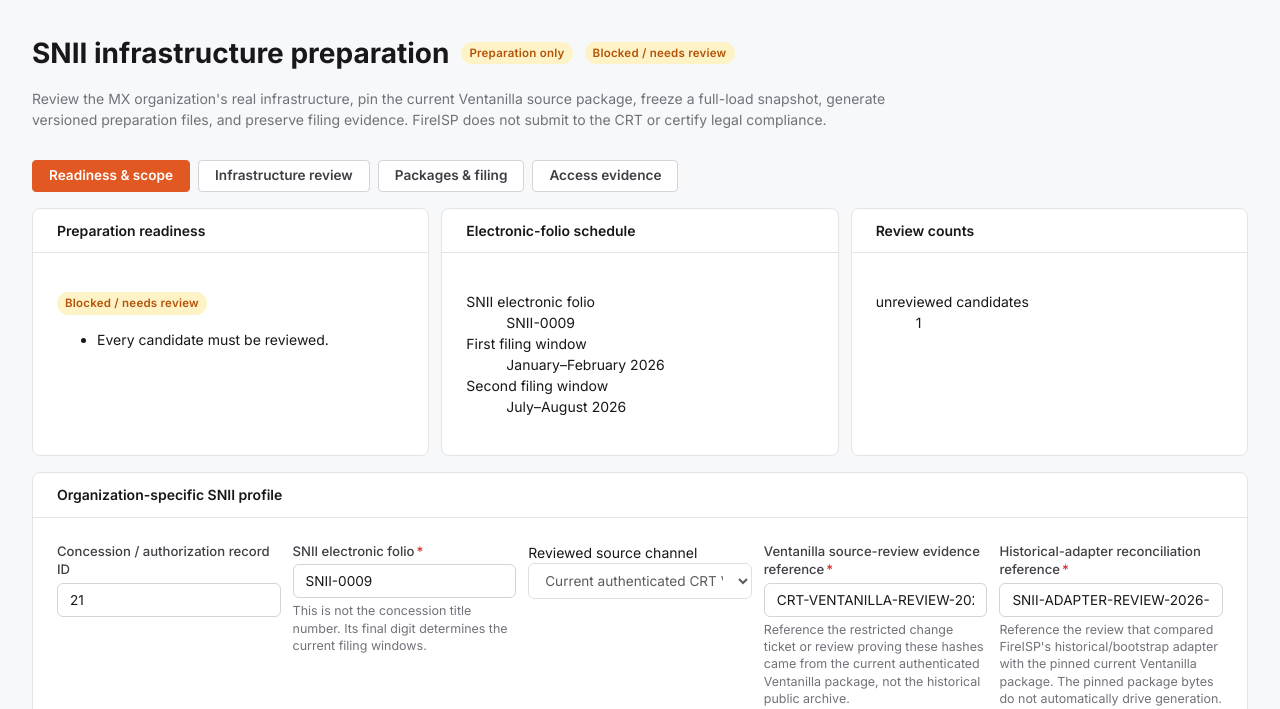
SniiInfrastructureReportingPage › resets element applicability controls after a profile identity change invalidates review
Replace the text in the field showing "SNII-0009" with "SNII-0010" at (404, 581), box [293,564,516,598]
(page scrolled)
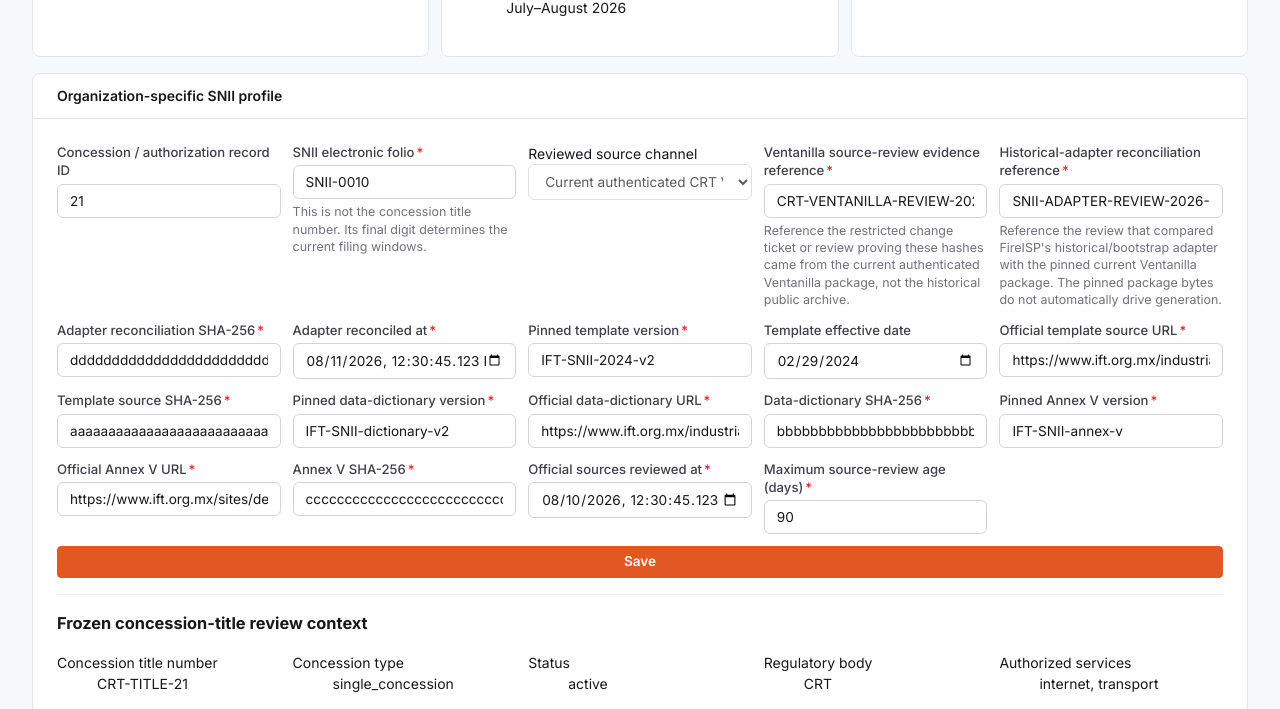
Submit the form showing "SNII-0009", box [57,143,1223,578]
(page scrolled)
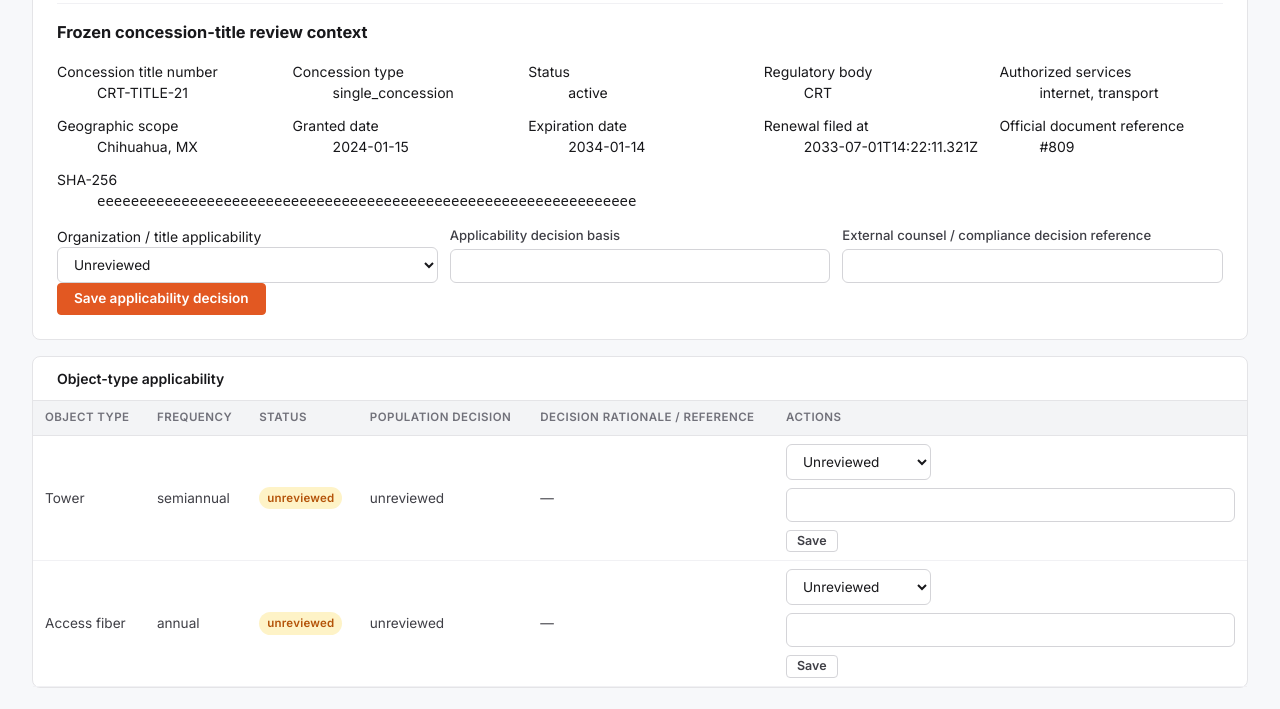
Expected: the 1st dropdown named "Status" shows "Unreviewed", [786,444,931,480]
Expected: the field named "Decision rationale / reference" in the row of "Tower" is empty, [786,488,1235,522]
